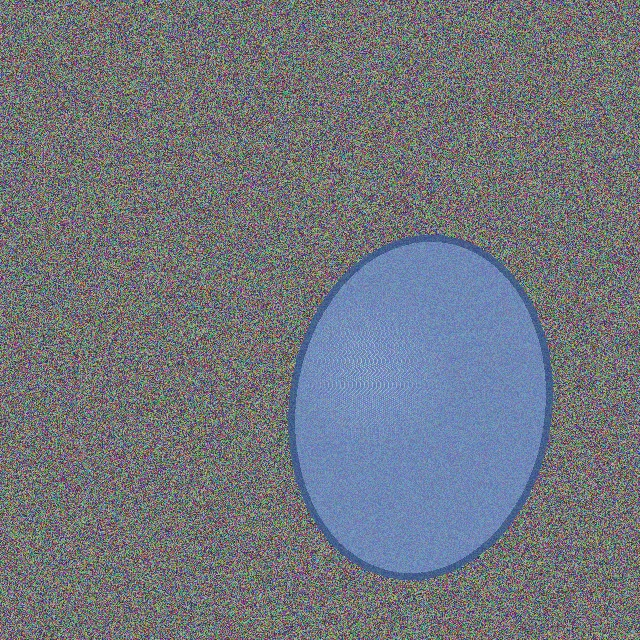lens: (291, 239, 549, 575)
